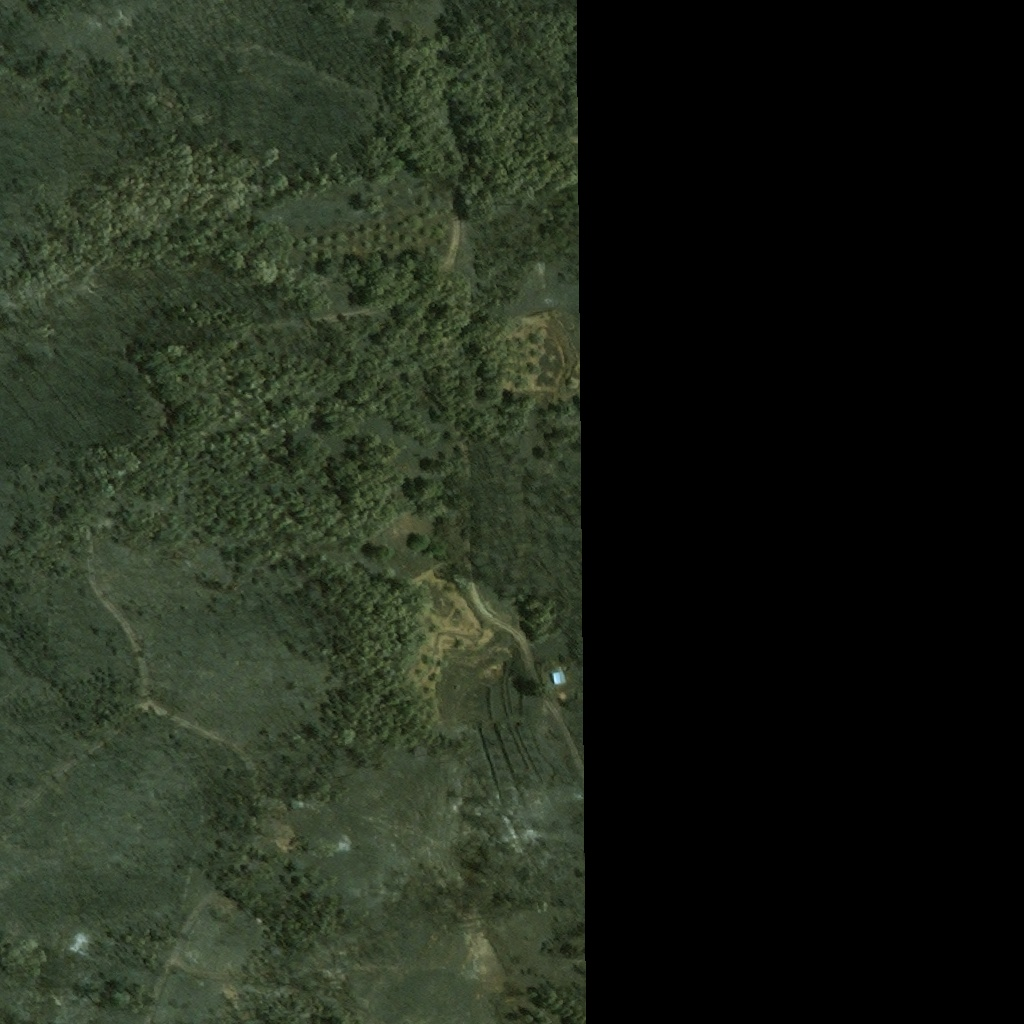0 no-damage: (551, 670, 567, 685)
